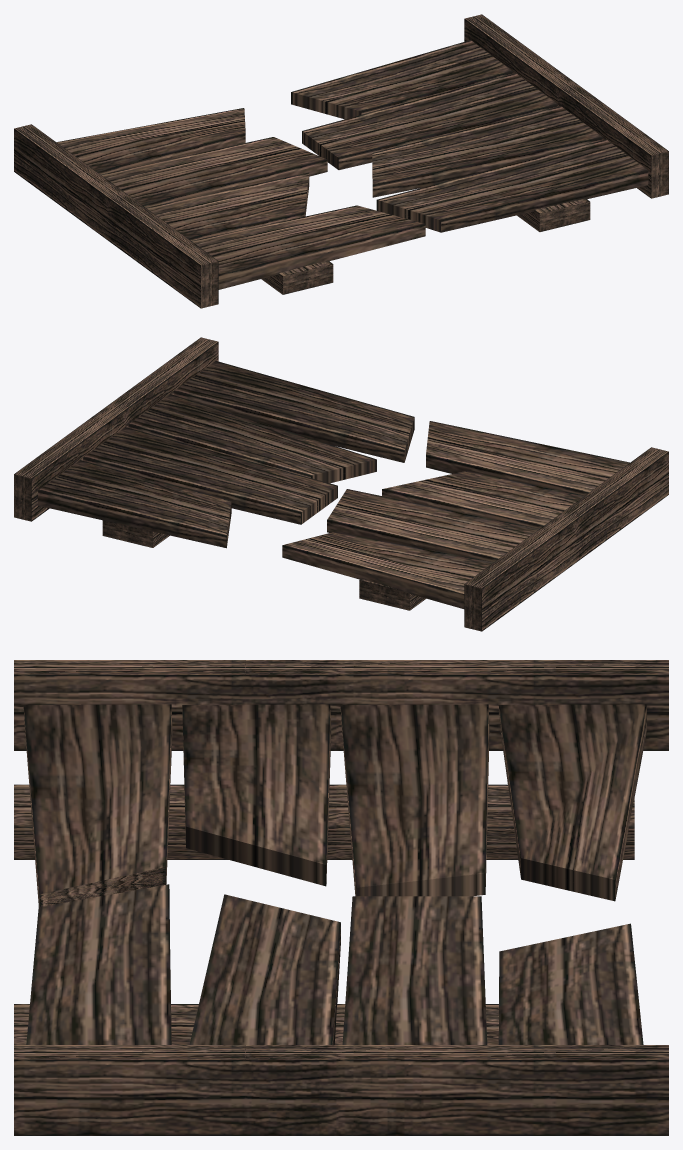
Rendered from CB_LOOKOUT_PLATFORMFALL.fbx.
3 renders of one model, top to bottom at view 1: azimuth 30°, elevation 25°; view 2: azimuth 150°, elevation 25°; view 3: azimuth 270°, elevation 25°, orthographic. The views are drawn at different scales.
Visible parts, largest first — view 1: CB_LOOKOUT_PLATFORMFALL; view 2: CB_LOOKOUT_PLATFORMFALL; view 3: CB_LOOKOUT_PLATFORMFALL.
Boxes of the visible parts, x1=… form: CB_LOOKOUT_PLATFORMFALL: x1=14, y1=14, x2=668, y2=308; CB_LOOKOUT_PLATFORMFALL: x1=14, y1=337, x2=668, y2=631; CB_LOOKOUT_PLATFORMFALL: x1=14, y1=660, x2=668, y2=1135.
Bounding box in the file's own units: 26035 × 2635 × 18013.
Materials: 1 (1 with a texture image).
